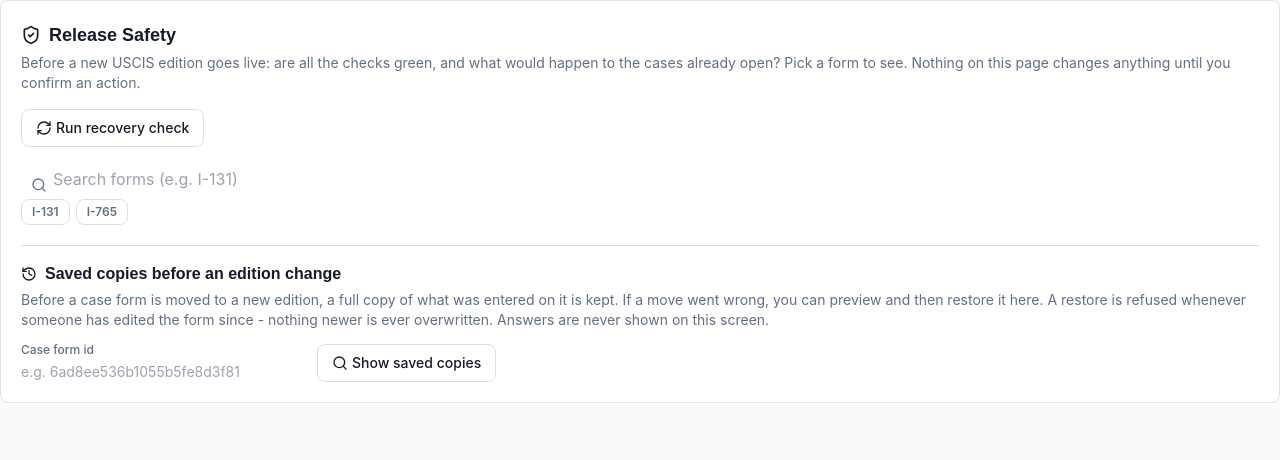
it: FormReleaseSection › the recovery check reports what it did in words
What coordinates should you click on to do the following:
click the button "Run recovery check"
I would click on:
 (113, 128)
Its box is [21,109,204,147].
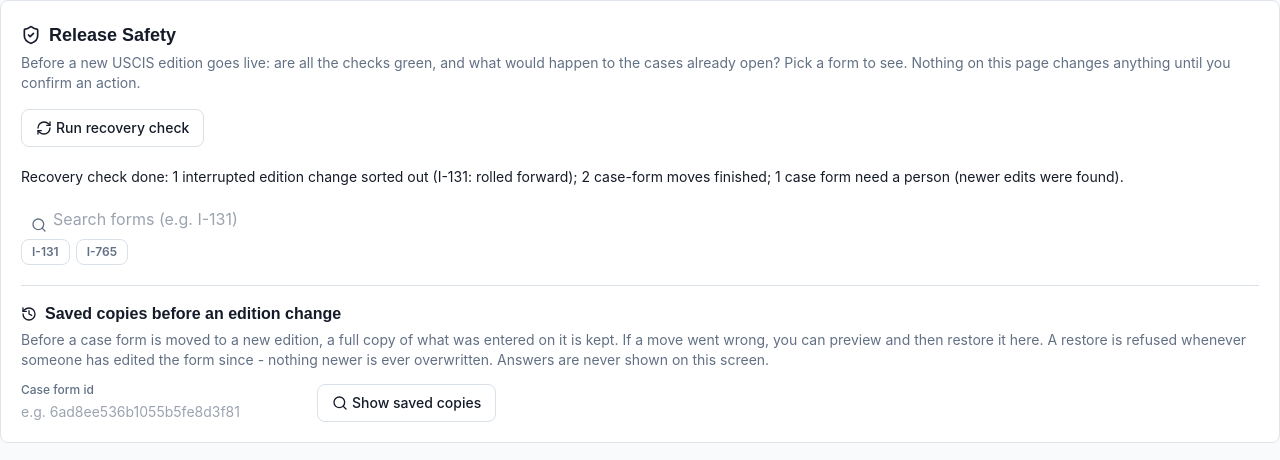
expect the text "Recovery check done" shows "I-131: rolled forward": met, box [21,168,1124,185]
expect the text "Recovery check done" shows "2 case-form moves finished": met, box [21,168,1124,185]
expect the text "Recovery check done" shows "1 case form need a person": met, box [21,168,1124,185]
